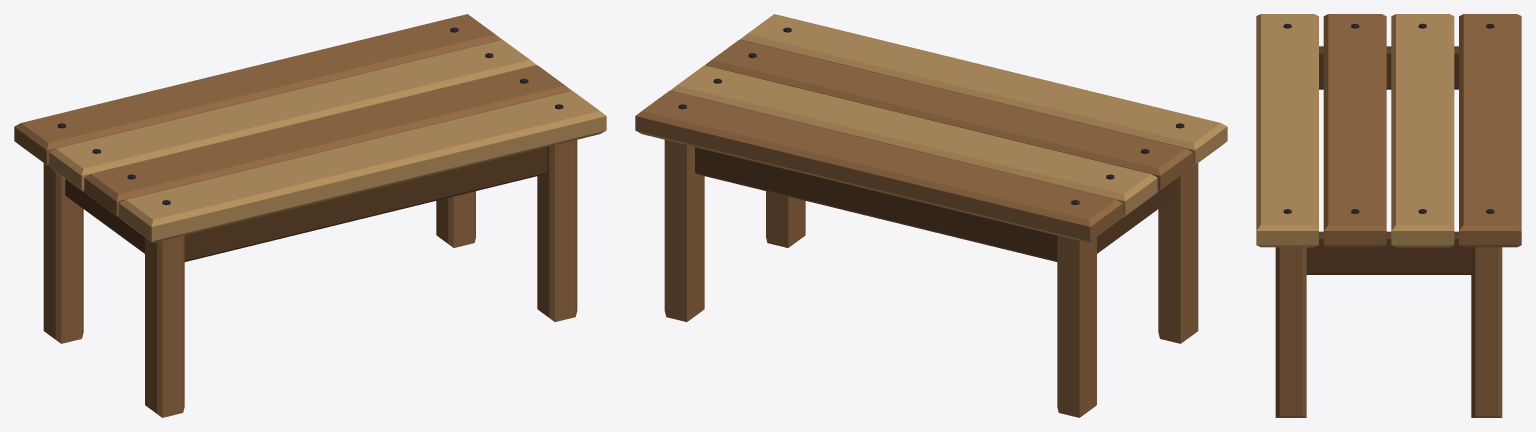
The model's file is Table_05.glb.
The picture shows the model from 3 angles, left to right: view 1: azimuth 30°, elevation 25°; view 2: azimuth 150°, elevation 25°; view 3: azimuth 270°, elevation 25°; orthographic projection. The views are drawn at different scales.
Parts seen in each view (by area): view 1: Table_05; view 2: Table_05; view 3: Table_05.
Boxes of the visible parts, x1,y1,x2,y2 form: Table_05: [14, 14, 606, 417]; Table_05: [635, 14, 1227, 417]; Table_05: [1256, 14, 1521, 417].
Size of the model in its own units: 6.54 by 2.89 by 3.42.
